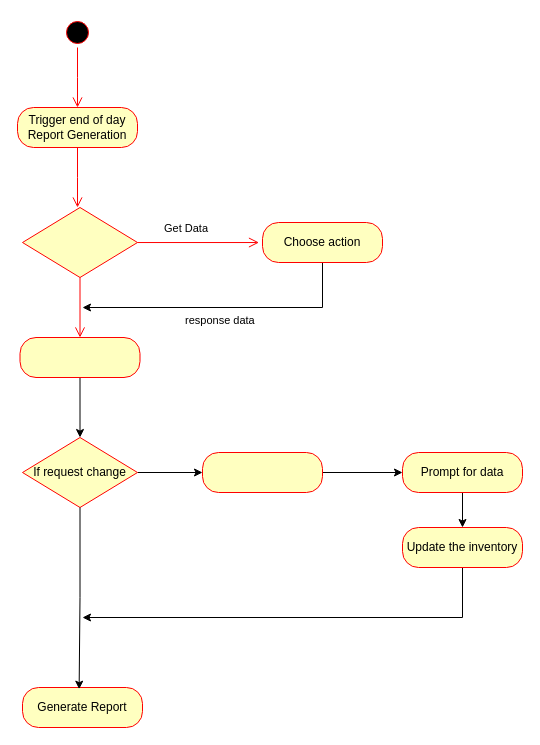
Image size: 540x745. Some labels were removed from this diagram. Here are the shapes that lost their labels. From the top down, the centre of each, then its label:
At point 80,242: "If data is not load".
At point 79,357: "View end day report".
At point 262,472: "Enter update data".
